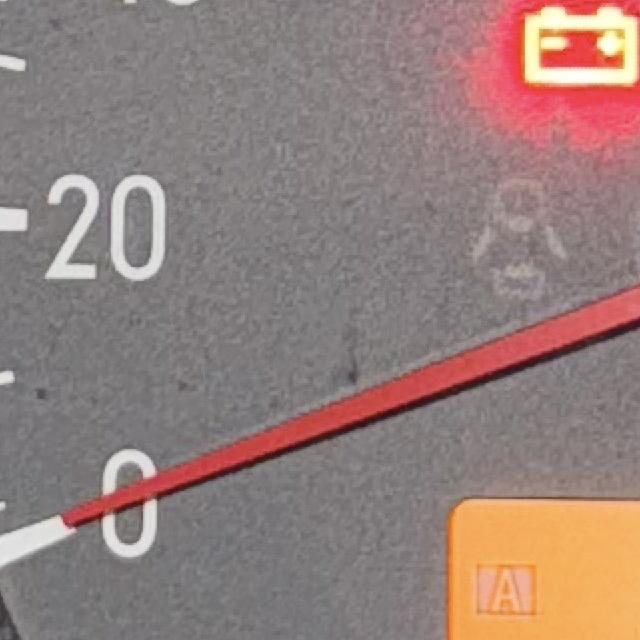Battery Issue: (521, 6, 640, 91)
